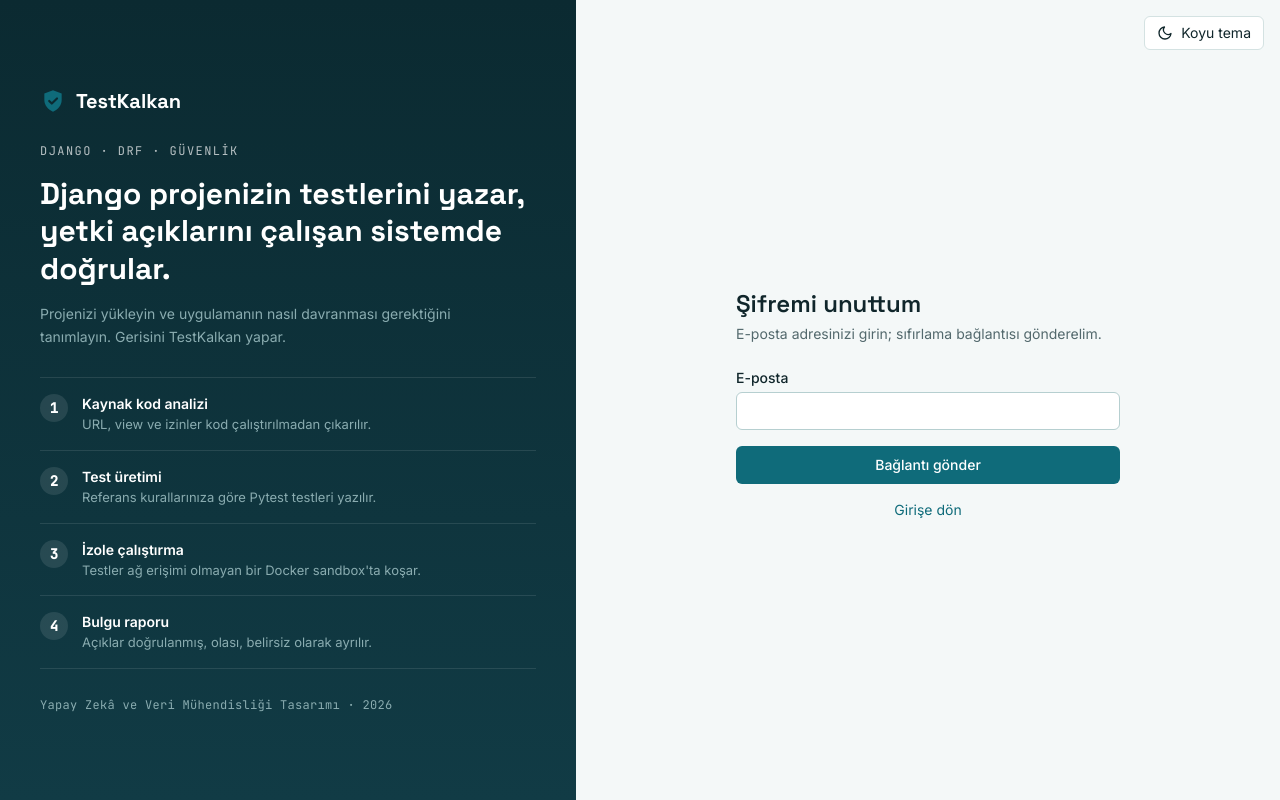
geçersiz e-posta biçimi alan hatası gösterir
The width and height of the screenshot is (1280, 800).
In the field labelled "E-posta": (928, 411) x1=736 y1=392 x2=1120 y2=430, type "gecersiz"
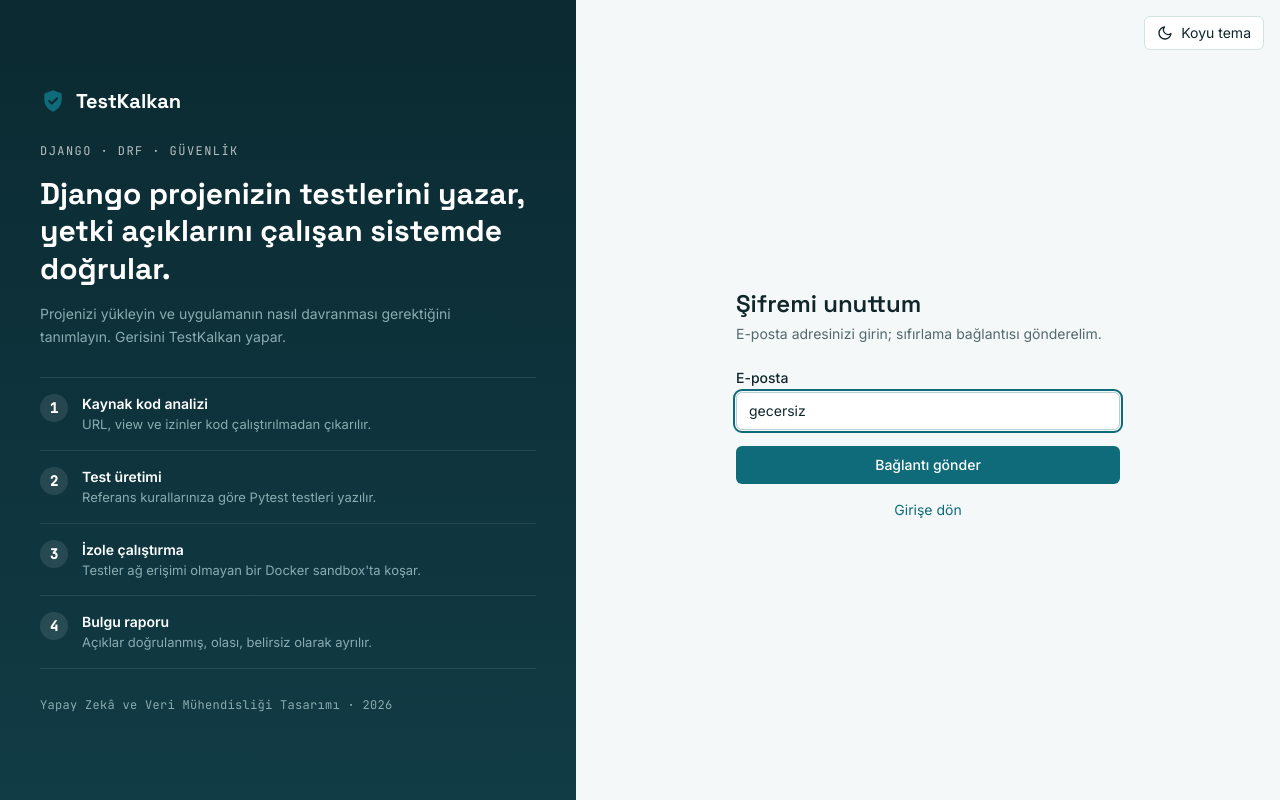
Click the button "Bağlantı gönder": (928, 465) x1=736 y1=446 x2=1120 y2=484
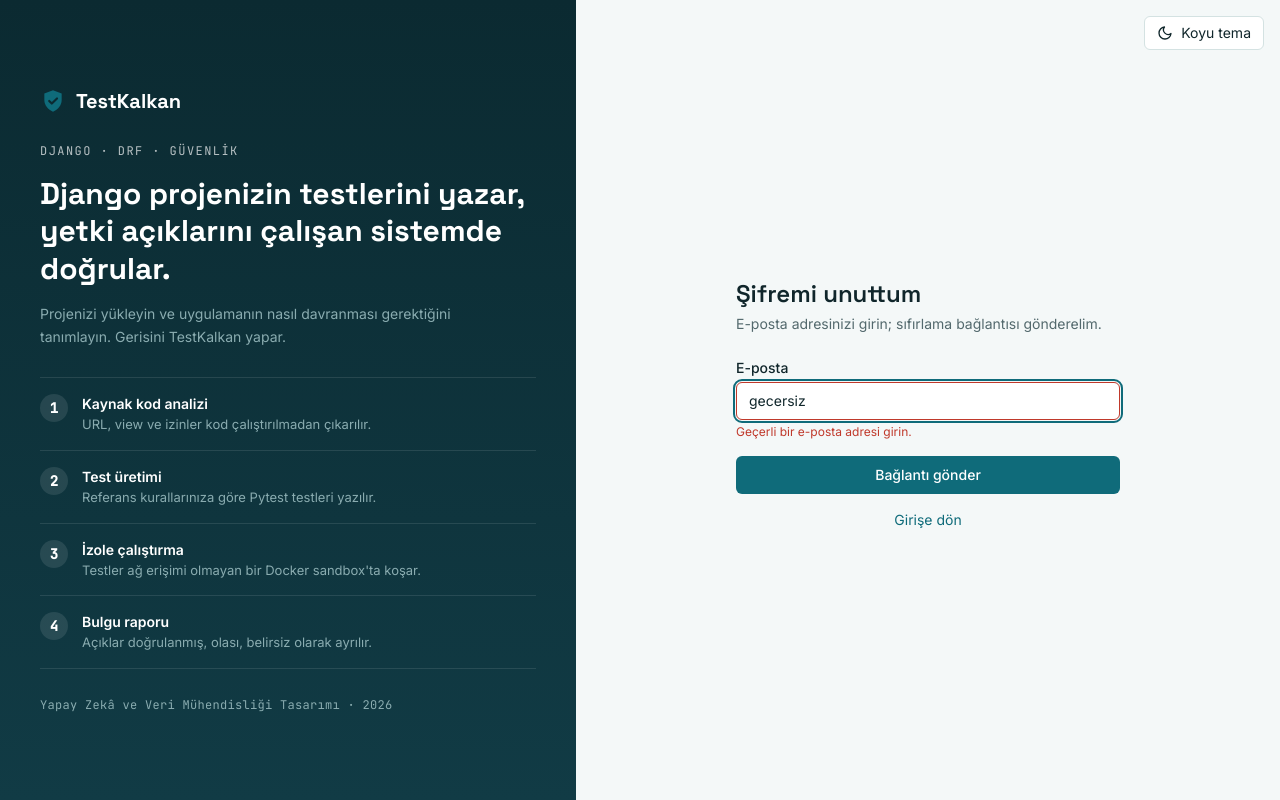
Expected: the text "Geçerli bir e-posta adresi girin." is shown, x1=736 y1=424 x2=912 y2=439
